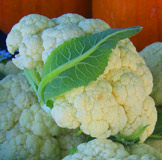cauliflower: (6, 13, 158, 142)
